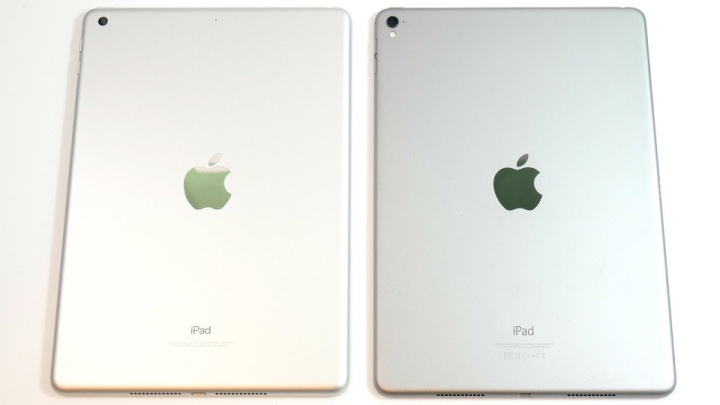apple: (159, 136, 264, 226), (487, 133, 567, 248)
